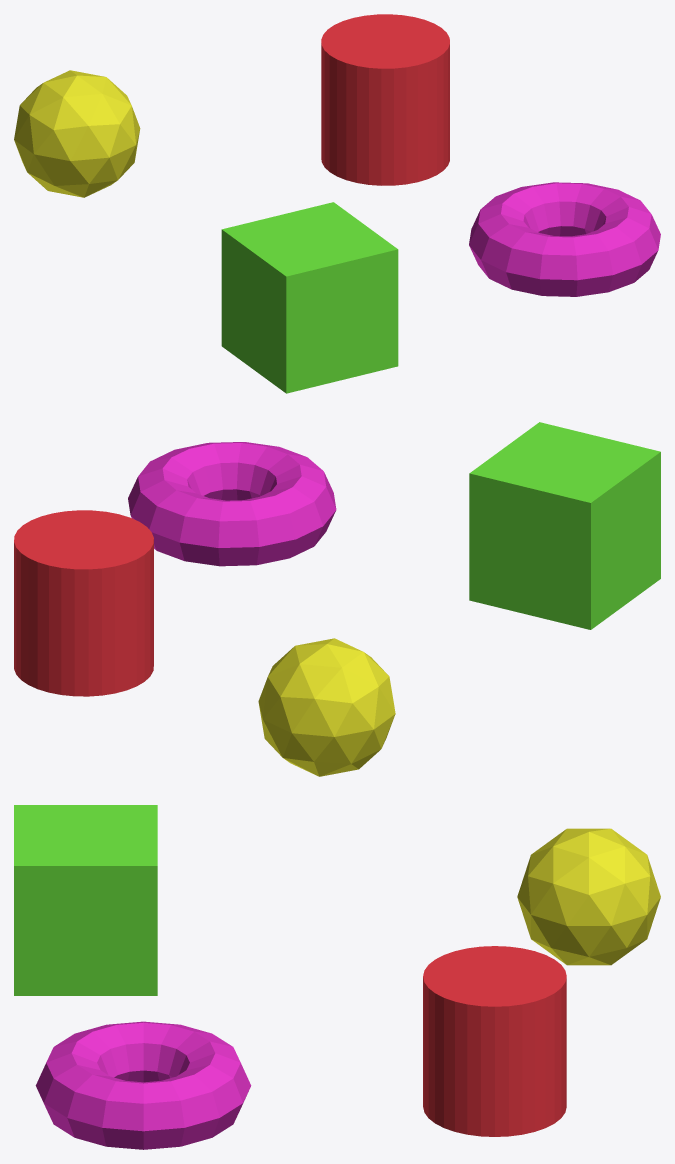
The picture shows the model from 3 angles, top to bottom: view 1: azimuth 30°, elevation 25°; view 2: azimuth 150°, elevation 25°; view 3: azimuth 270°, elevation 25°; orthographic projection. The views are drawn at different scales.
Visible parts, largest first — view 1: Cube, Cylinder, Torus, Icosphere; view 2: Cube, Cylinder, Torus, Icosphere; view 3: Cube, Cylinder, Torus, Icosphere.
Part boxes in pixels (x1,y1,x2,y2): Cube: (221, 202, 398, 393); Cylinder: (321, 14, 449, 185); Torus: (469, 182, 660, 296); Icosphere: (14, 70, 140, 197); Cube: (469, 422, 660, 629); Cylinder: (14, 510, 153, 696); Torus: (128, 442, 336, 566); Icosphere: (258, 638, 395, 776); Cube: (14, 805, 157, 995); Cylinder: (423, 946, 566, 1136); Torus: (35, 1021, 251, 1149); Icosphere: (517, 828, 660, 965).
Bounding box in the file's own units: 7.59 × 2 × 9.
